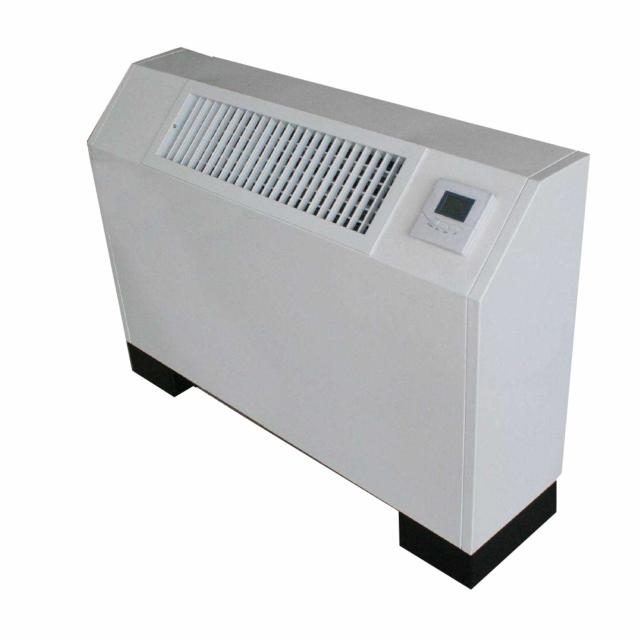appliances: (88, 49, 586, 586)
electronics: (411, 179, 493, 254)
